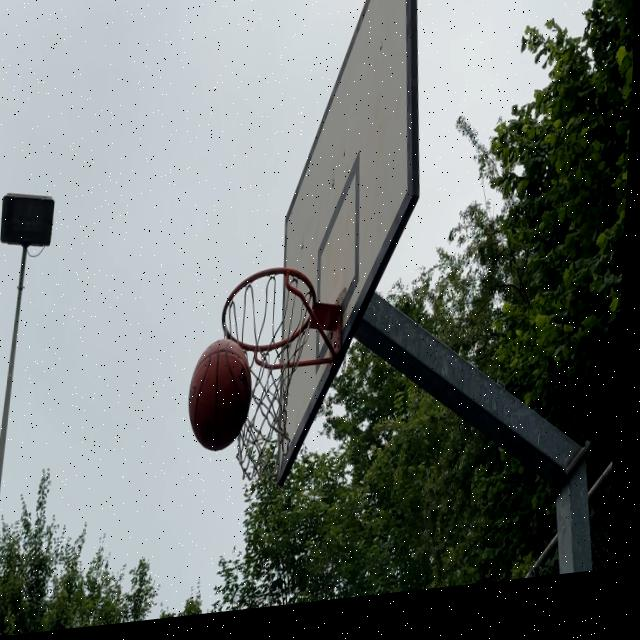Basketball: (186, 338, 252, 458)
